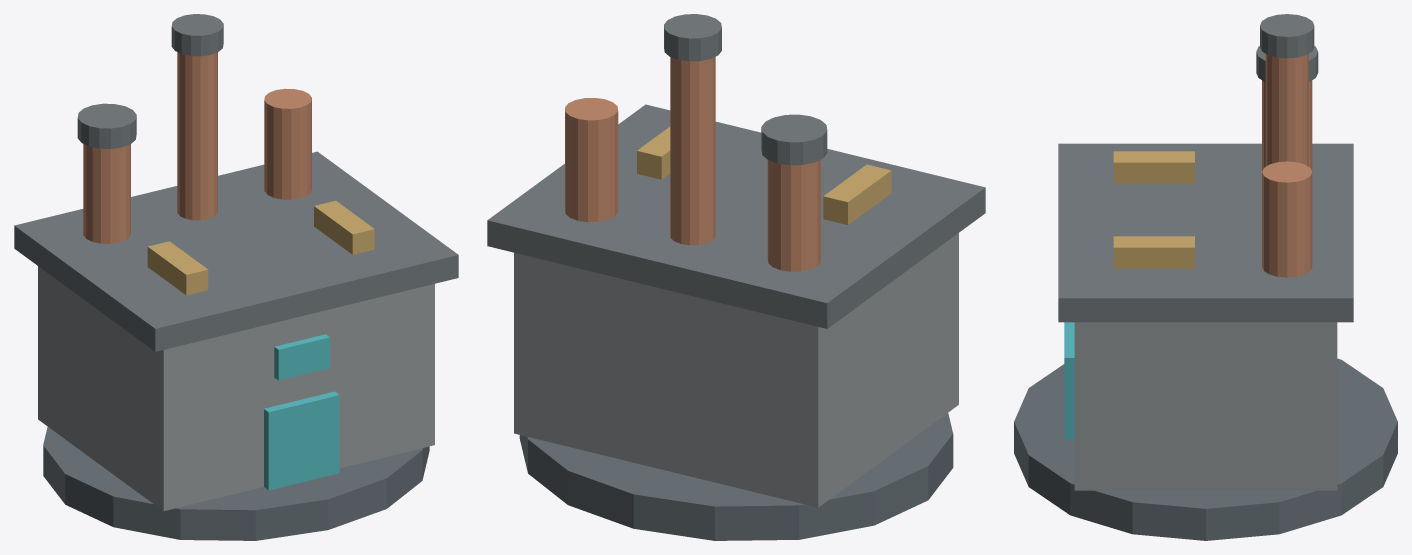
Rendered from factory.glb.
3 views of the same model, side by side, from view 1: azimuth 30°, elevation 25°; view 2: azimuth 150°, elevation 25°; view 3: azimuth 270°, elevation 25° (orthographic). The views are drawn at different scales.
Size of the model in its own units: 2.8 by 3.2 by 2.6.
